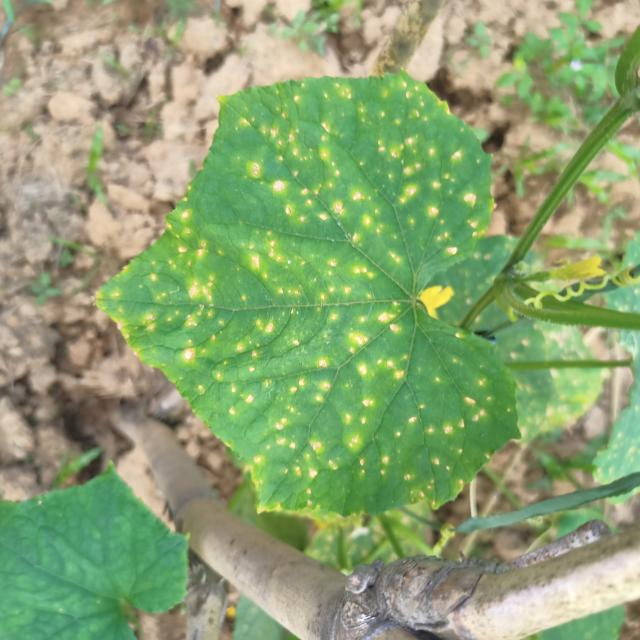disease_cucumber: (145, 86, 502, 513)
